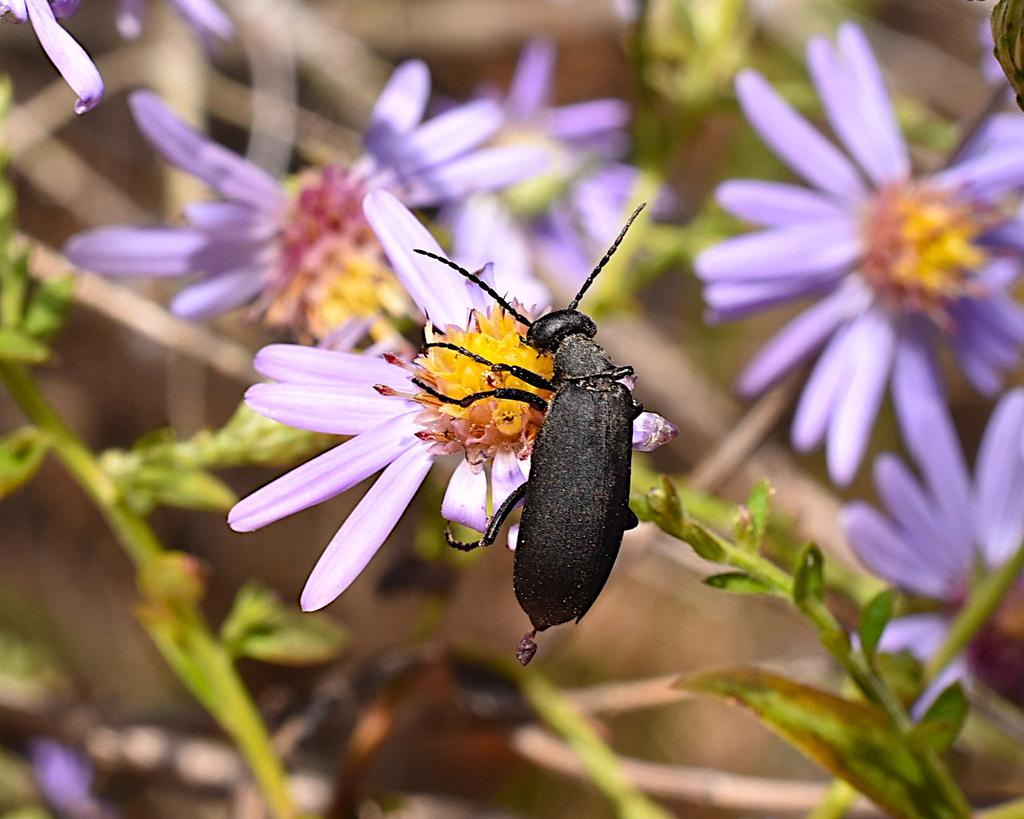blister_beetle: (360, 151, 761, 701)
